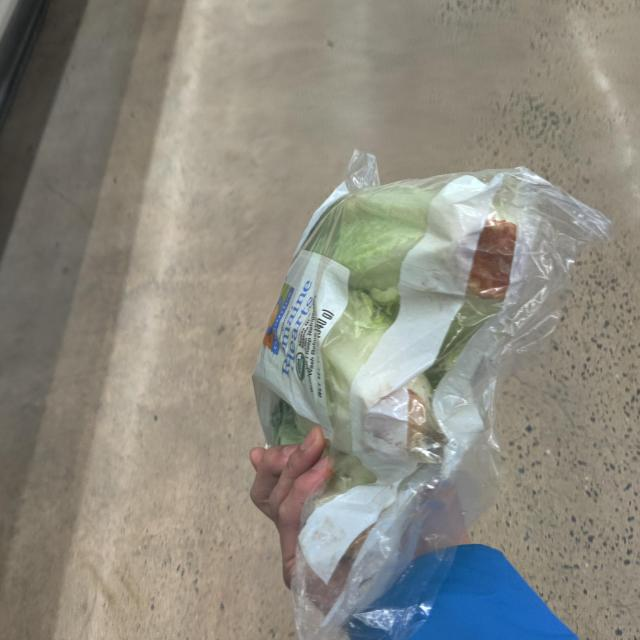Lettuce: (244, 145, 568, 600)
